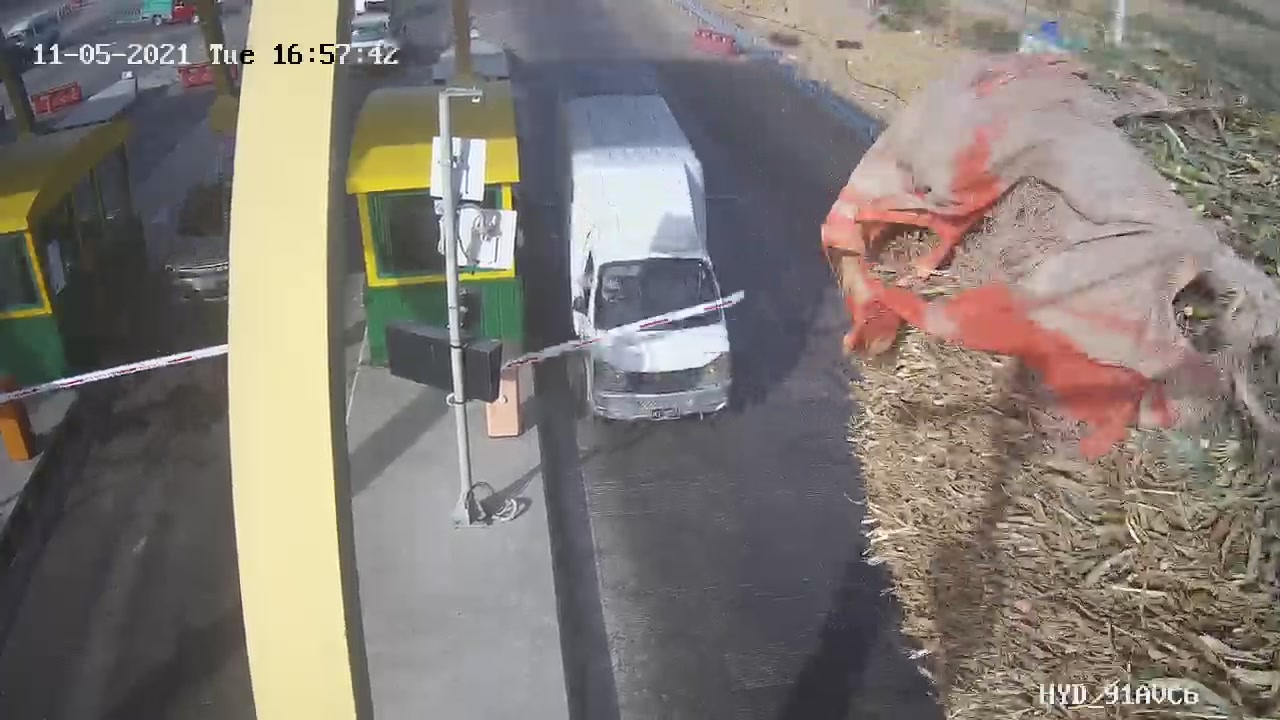F5: (540, 82, 768, 443)
